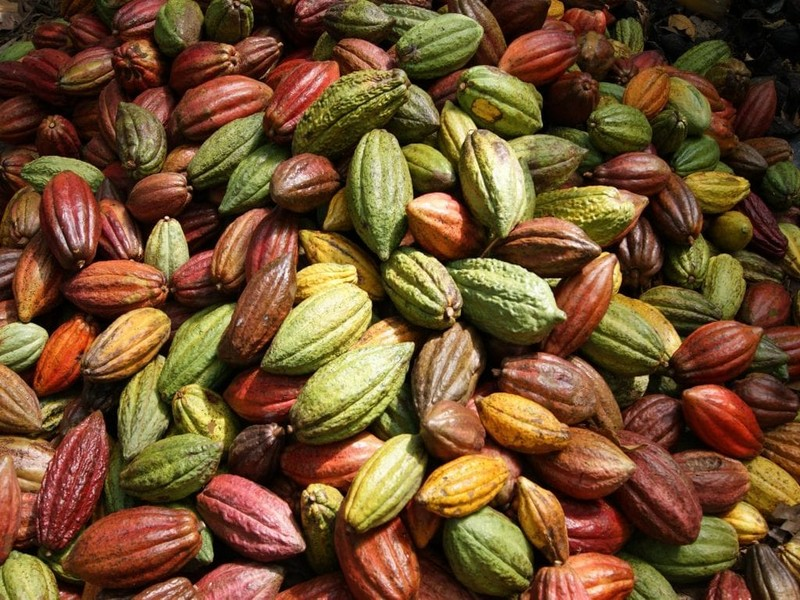Cacaopod: (347, 126, 416, 263)
